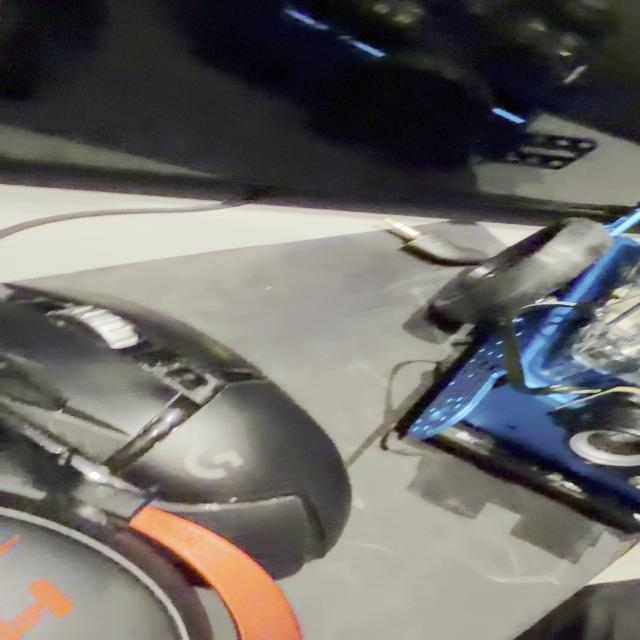mbot-detection: (391, 192, 640, 548)
